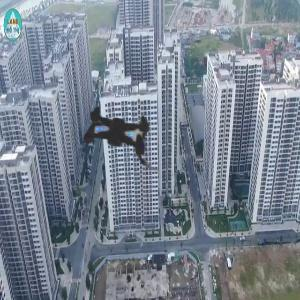drone: (35, 51, 195, 211)
